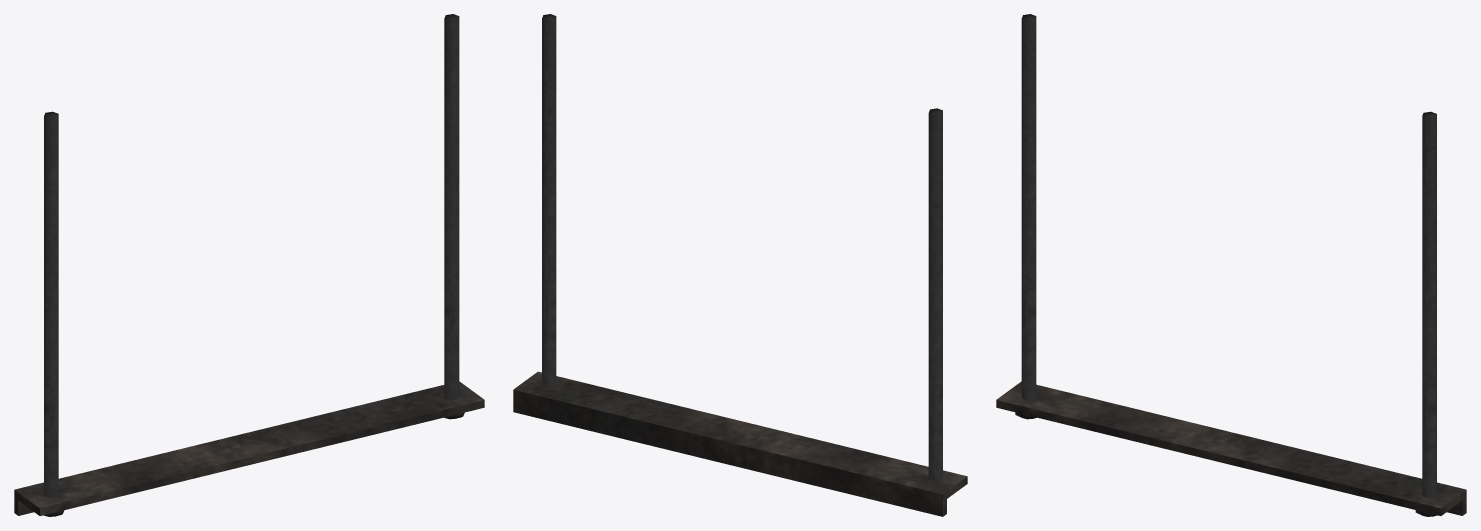
The model's file is pipes_holder_1.obj.
The picture shows the model from 3 angles, left to right: view 1: azimuth 30°, elevation 25°; view 2: azimuth 150°, elevation 25°; view 3: azimuth 330°, elevation 25°; orthographic projection. The views are drawn at different scales.
Visible parts, largest first — view 1: pipes_holder_1; view 2: pipes_holder_1; view 3: pipes_holder_1.
Part boxes in pixels (x1,y1,x2,y2): pipes_holder_1: [14, 14, 484, 516]; pipes_holder_1: [513, 14, 967, 516]; pipes_holder_1: [996, 14, 1466, 516].
Size of the model in its own units: 0.6 by 0.52 by 0.06.
